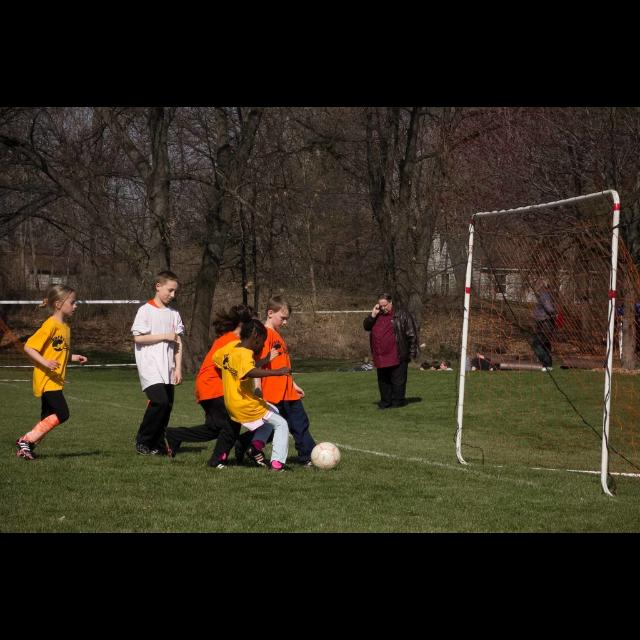Football: (310, 442, 340, 468)
